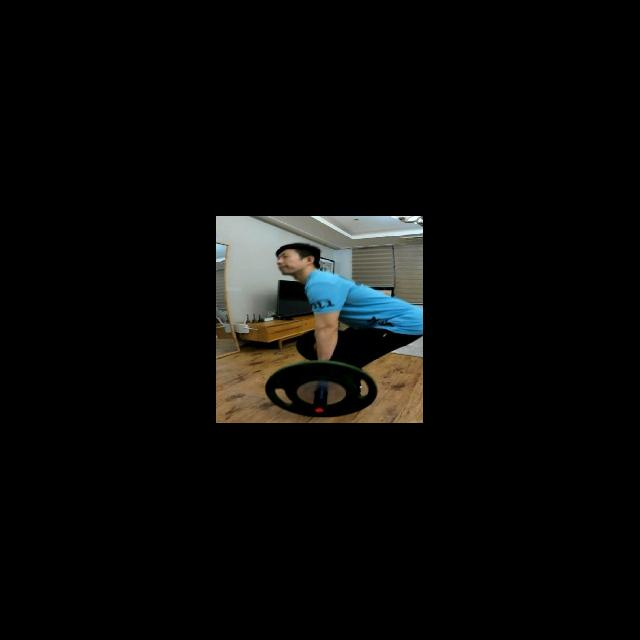barbell: (263, 357, 379, 419)
